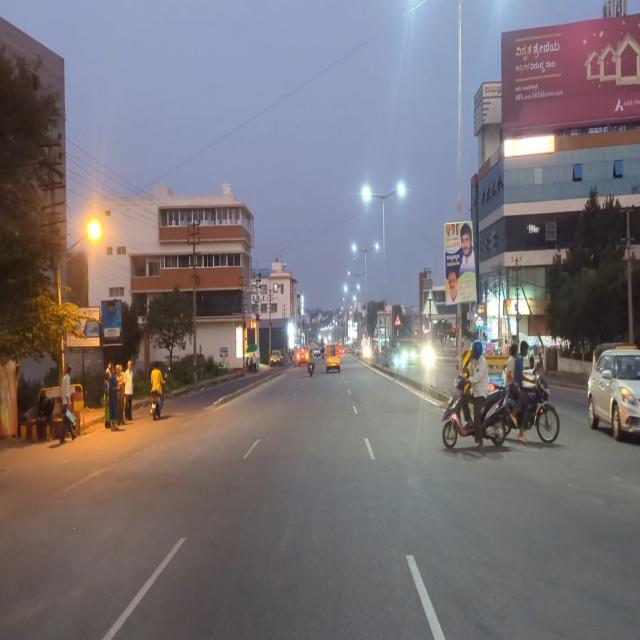bien_cam: (394, 313, 402, 326)
